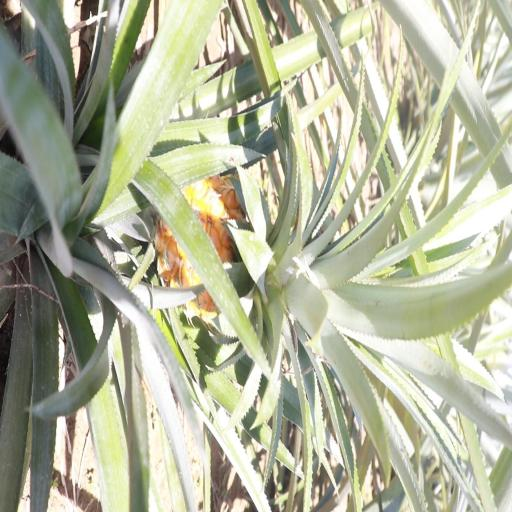Pineapple - v8 v1: (158, 182, 370, 350)
